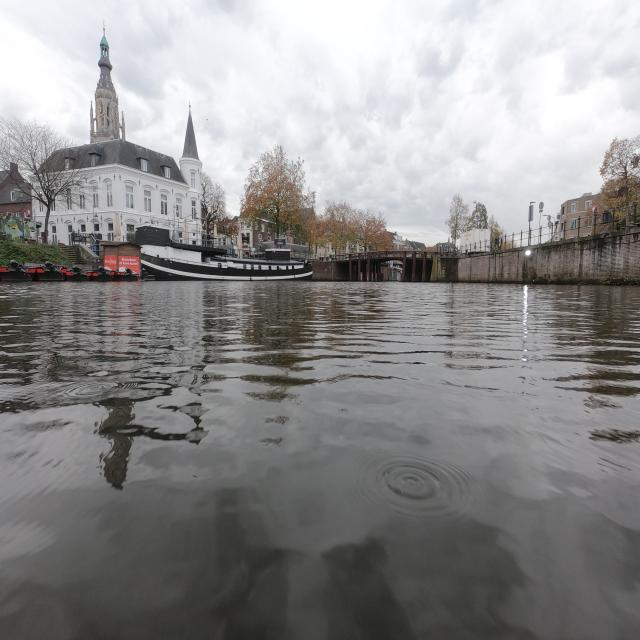boat: (152, 248, 312, 278)
grass: (2, 234, 82, 264)
sky: (44, 8, 638, 244)
tree: (241, 145, 314, 234), (304, 200, 391, 254)
wall: (458, 232, 638, 284), (311, 260, 346, 281)
water: (8, 290, 638, 634)
